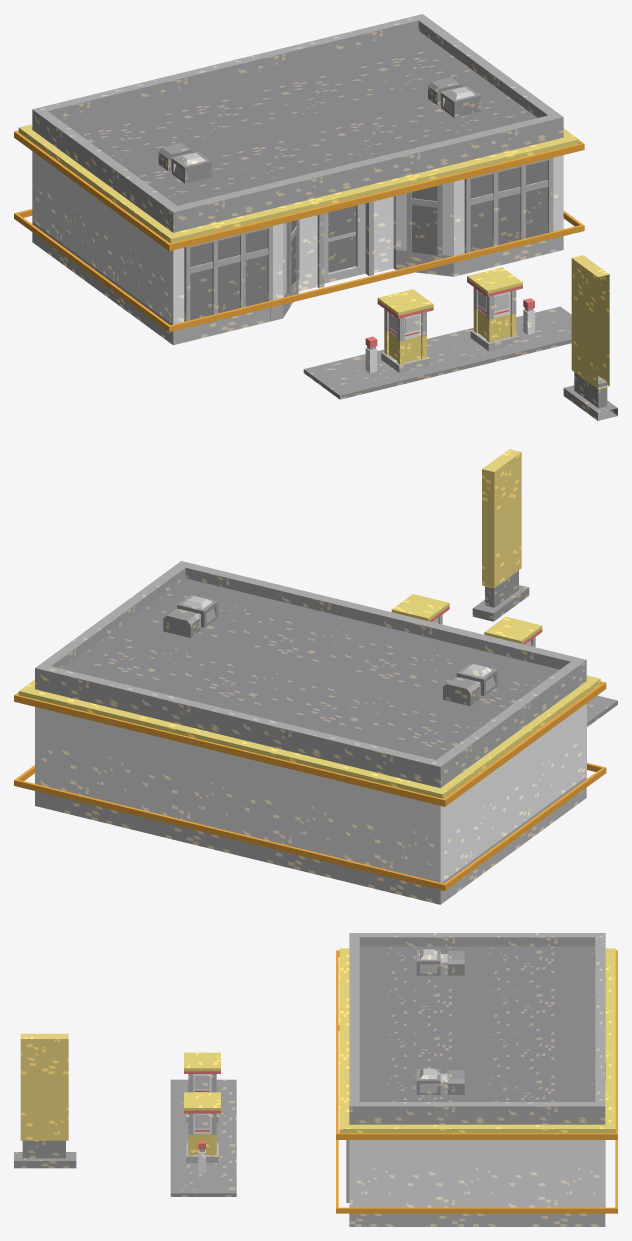
The model's file is gas_station_night.glb.
3 renders of one model, top to bottom at view 1: azimuth 30°, elevation 25°; view 2: azimuth 150°, elevation 25°; view 3: azimuth 270°, elevation 25°, orthographic. The views are drawn at different scales.
Parts seen in each view (by area): view 1: _MeshInstance3D_90, _MeshInstance3D_86, _MeshInstance3D_88, _MeshInstance3D_87, _MeshInstance3D_83, _MeshInstance3D_89, gas_stripes, _MeshInstance3D_91, _MeshInstance3D_94, _MeshInstance3D_85, _MeshInstance3D_84, _MeshInstance3D_92; view 2: _MeshInstance3D_90, _MeshInstance3D_88, _MeshInstance3D_86, gas_stripes, _MeshInstance3D_91, _MeshInstance3D_87, _MeshInstance3D_94, _MeshInstance3D_89; view 3: _MeshInstance3D_90, _MeshInstance3D_88, _MeshInstance3D_86, _MeshInstance3D_89, _MeshInstance3D_91, _MeshInstance3D_94, gas_stripes, _MeshInstance3D_87, _MeshInstance3D_85, _MeshInstance3D_84.
Part boxes in pixels (bbox=[...]): _MeshInstance3D_90: bbox=[58, 31, 537, 205]; _MeshInstance3D_86: bbox=[32, 14, 563, 232]; _MeshInstance3D_88: bbox=[32, 151, 563, 373]; _MeshInstance3D_87: bbox=[32, 157, 563, 372]; _MeshInstance3D_83: bbox=[190, 160, 547, 320]; _MeshInstance3D_89: bbox=[158, 77, 617, 420]; gas_stripes: bbox=[14, 130, 584, 332]; _MeshInstance3D_91: bbox=[18, 124, 578, 362]; _MeshInstance3D_94: bbox=[384, 255, 609, 388]; _MeshInstance3D_85: bbox=[171, 87, 474, 283]; _MeshInstance3D_84: bbox=[389, 290, 509, 332]; _MeshInstance3D_92: bbox=[365, 279, 534, 347]; _MeshInstance3D_90: bbox=[62, 578, 559, 759]; _MeshInstance3D_88: bbox=[35, 618, 586, 882]; _MeshInstance3D_86: bbox=[35, 561, 586, 787]; gas_stripes: bbox=[14, 681, 606, 890]; _MeshInstance3D_91: bbox=[19, 594, 600, 798]; _MeshInstance3D_87: bbox=[35, 614, 586, 904]; _MeshInstance3D_94: bbox=[482, 449, 521, 588]; _MeshInstance3D_89: bbox=[163, 570, 617, 726]; _MeshInstance3D_90: bbox=[359, 946, 595, 1101]; _MeshInstance3D_88: bbox=[193, 1074, 605, 1207]; _MeshInstance3D_86: bbox=[349, 933, 605, 1124]; _MeshInstance3D_89: bbox=[14, 949, 464, 1196]; _MeshInstance3D_91: bbox=[184, 948, 615, 1154]; _MeshInstance3D_94: bbox=[20, 1033, 216, 1155]; gas_stripes: bbox=[336, 950, 617, 1213]; _MeshInstance3D_87: bbox=[186, 1074, 605, 1226]; _MeshInstance3D_85: bbox=[420, 949, 447, 1093]; _MeshInstance3D_84: bbox=[194, 1075, 209, 1128].
Bounding box in the file's own units: 1.28 × 0.4168 × 1.77.
